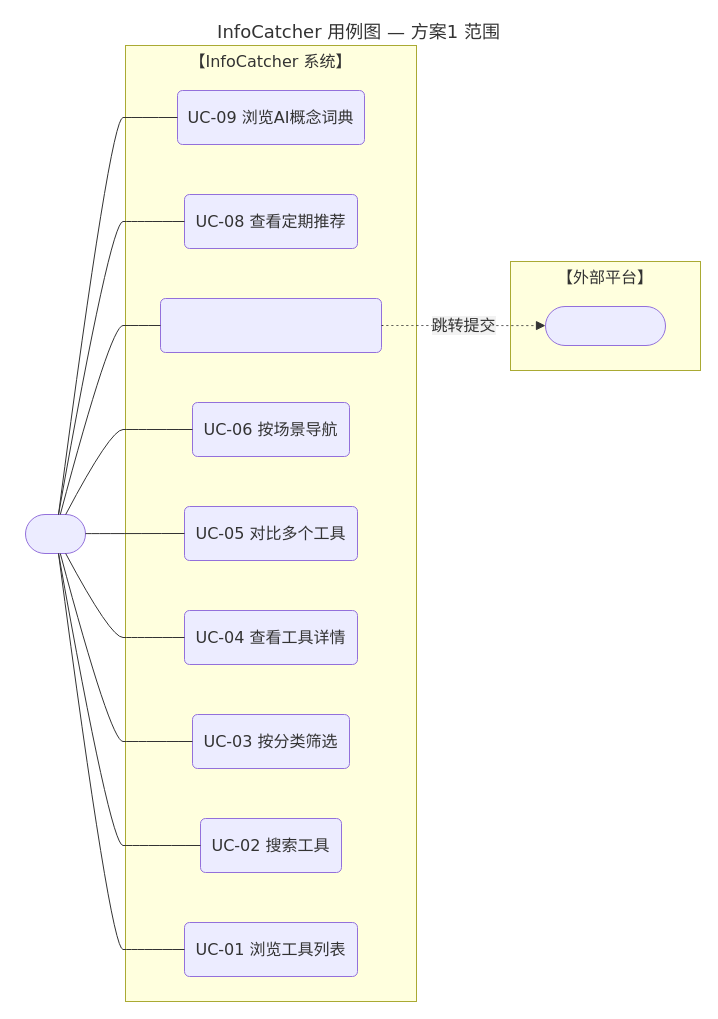
Some shapes in this 718 by 1019 pixel diagram are drawn without their labels. The shapes that lost their labels are listed below. From the top down, each one's centre as x and y in pixels, then its label:
point (271, 325): UC-07 提交纠错或推荐工具
point (605, 326): GitHub Issues
point (55, 534): 用户
